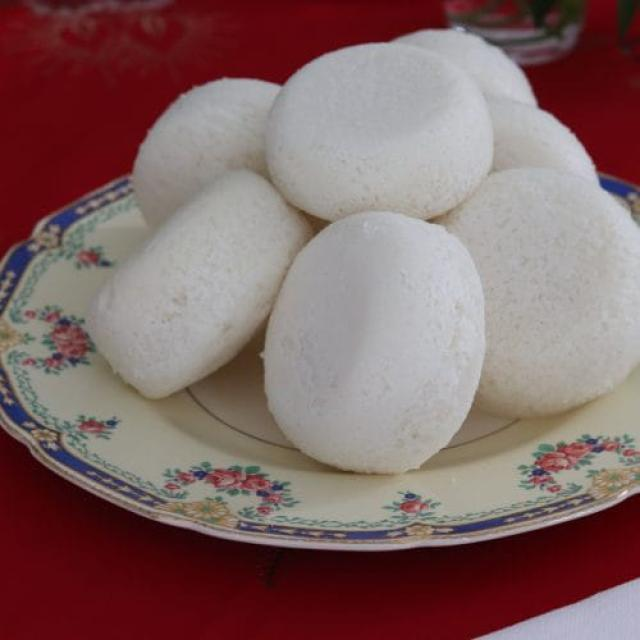Idly: (263, 198, 497, 482), (77, 156, 296, 418), (439, 163, 640, 433), (260, 33, 502, 229), (130, 62, 283, 214)
